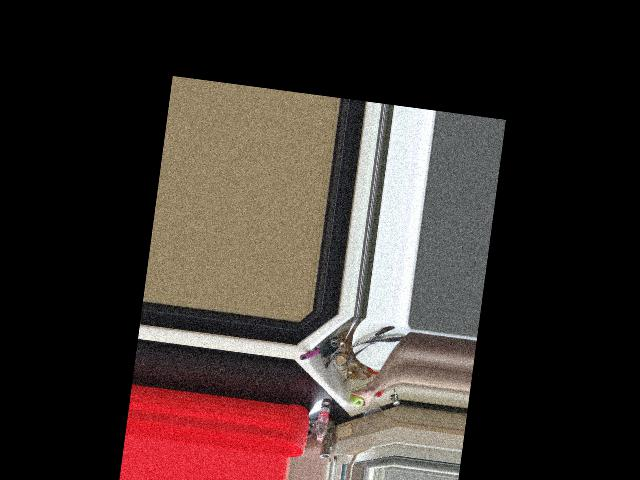apple: (349, 389, 365, 409)
